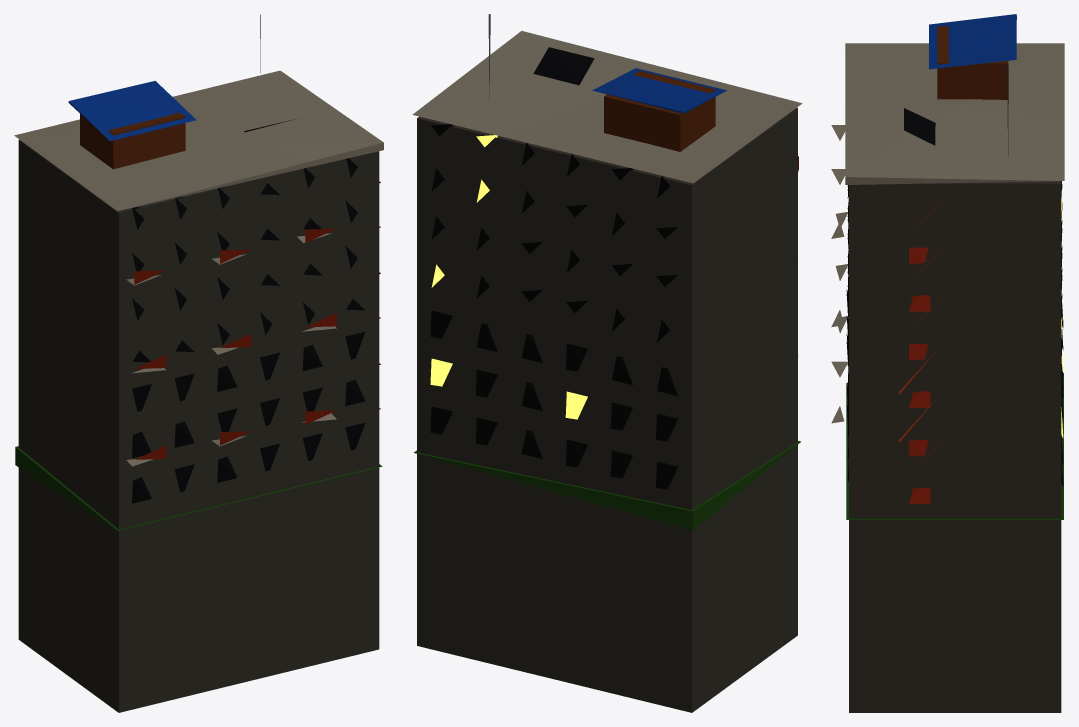
Rendered from tb_tower_brick.three-web-toon.lod25.glb.
3 views of the same model, side by side, from view 1: azimuth 30°, elevation 25°; view 2: azimuth 150°, elevation 25°; view 3: azimuth 270°, elevation 25° (orthographic). The views are drawn at different scales.
Visible parts, largest first — view 1: tower_brick_body_lod; view 2: tower_brick_body_lod; view 3: tower_brick_body_lod.
Boxes of the visible parts, box(x1,y1,x2,y2) form: tower_brick_body_lod: box(14, 14, 383, 712); tower_brick_body_lod: box(412, 14, 802, 712); tower_brick_body_lod: box(831, 14, 1064, 712).
Bounding box in the file's own units: 20.3 × 39 × 13.2.
